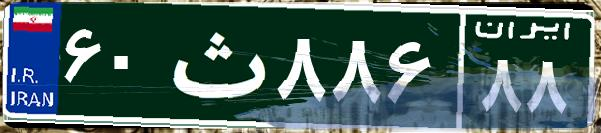0: (110, 28, 158, 105)
6: (385, 28, 445, 110), (57, 26, 110, 107)
8: (273, 28, 330, 110), (330, 28, 385, 110), (475, 38, 525, 113), (525, 38, 570, 115)
ث: (158, 15, 273, 115)
